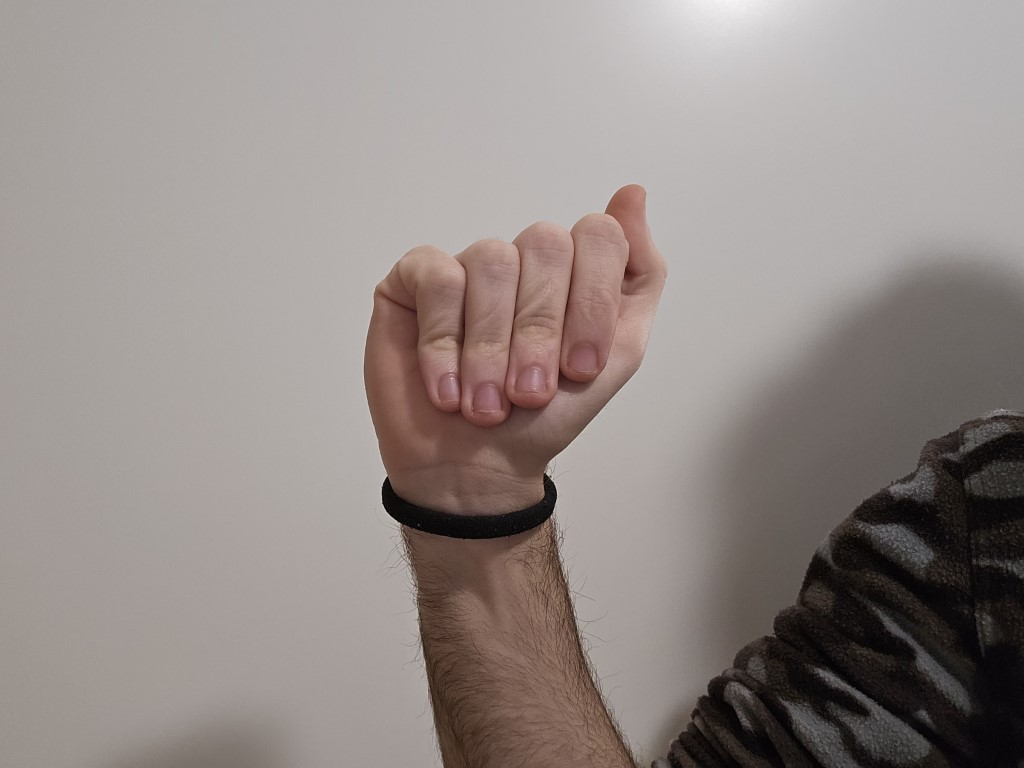a: (326, 155, 722, 568)
